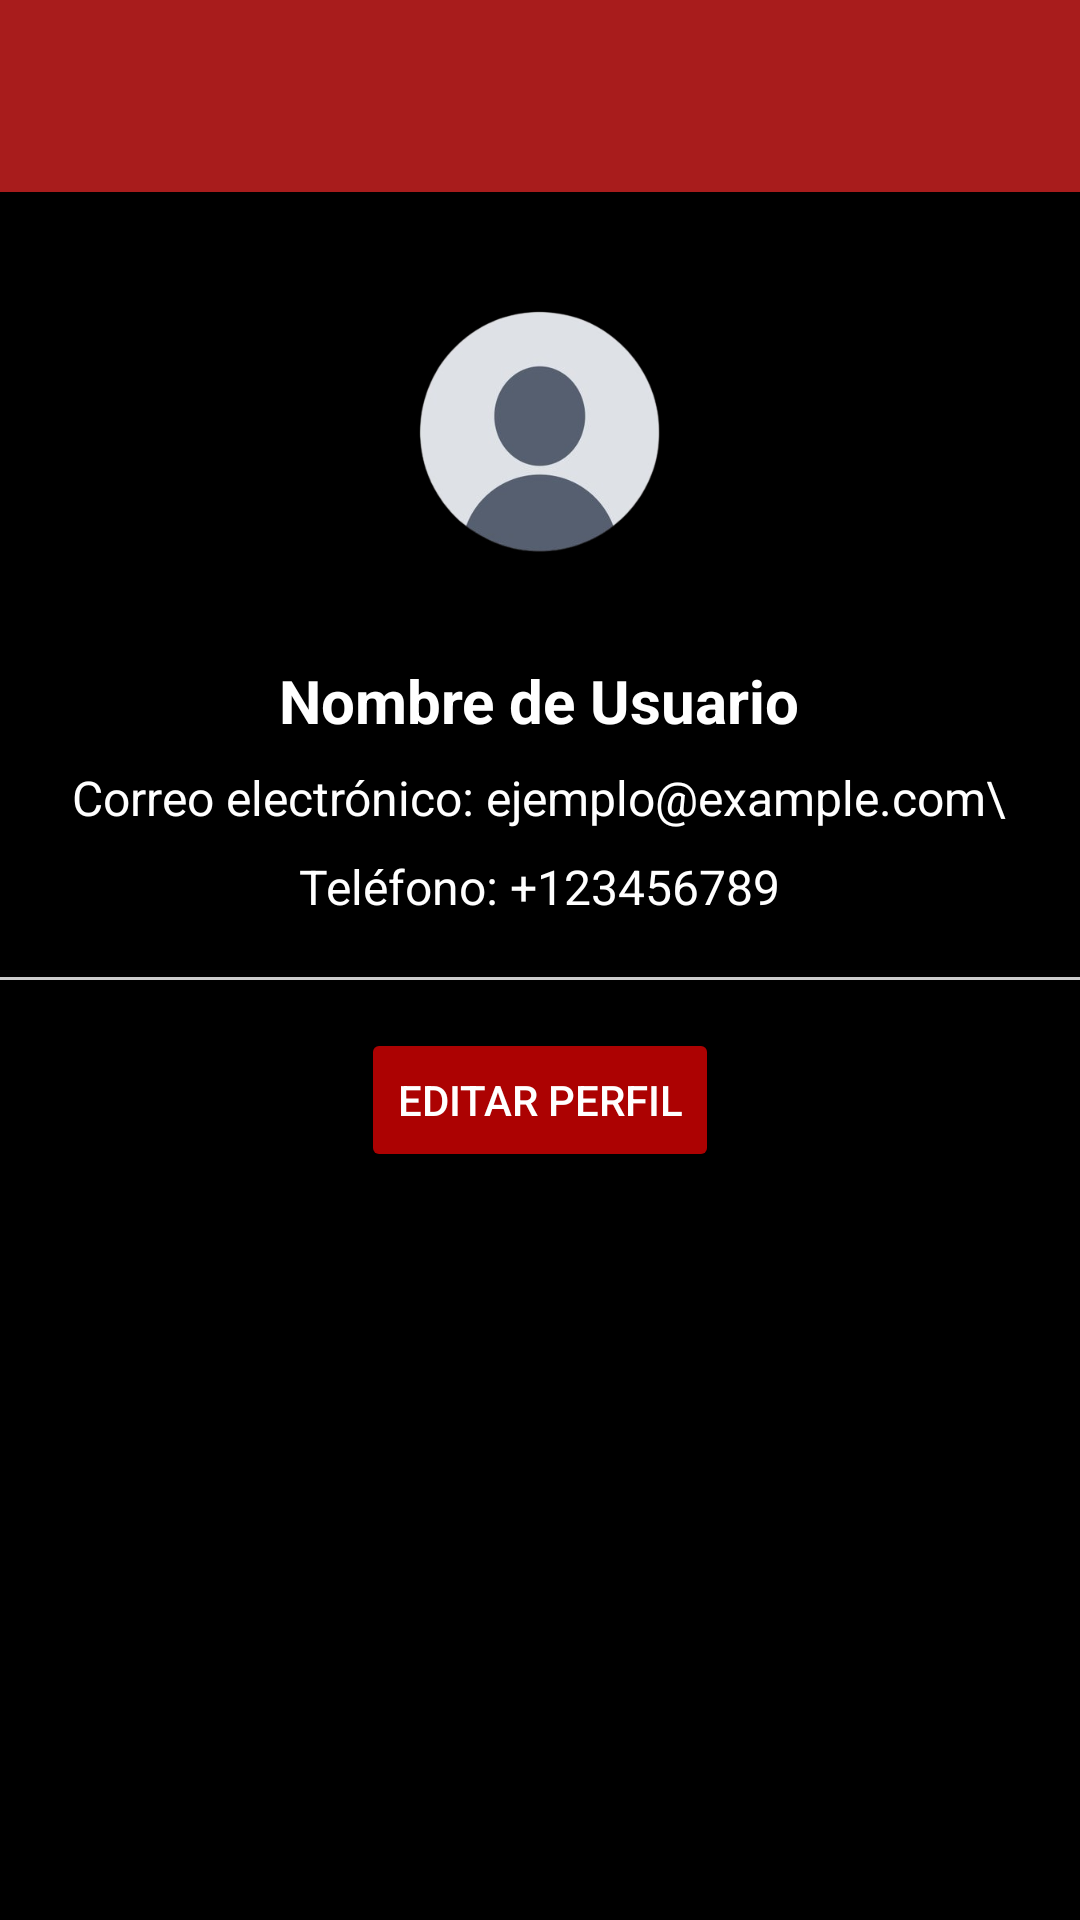

Icon bounding boxes for this 1080×1920 phone screenshot, format (x1, y1, x2, y2):
perfil: (420, 312, 660, 552)
